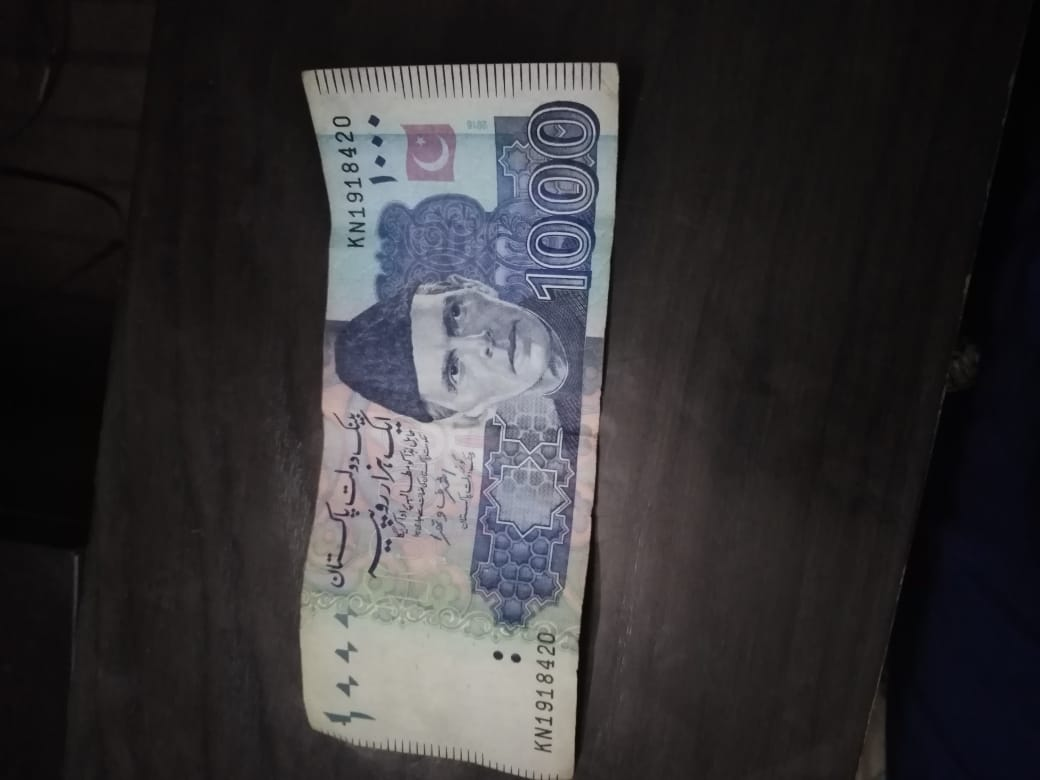1000 rupee: (269, 50, 654, 777)
